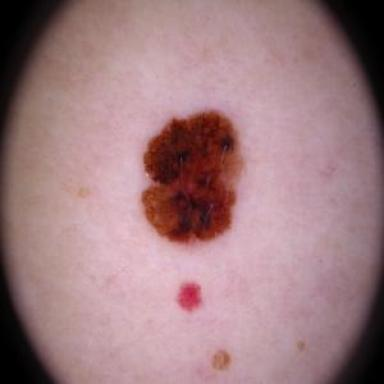Melanoma: (143, 111, 243, 245)
